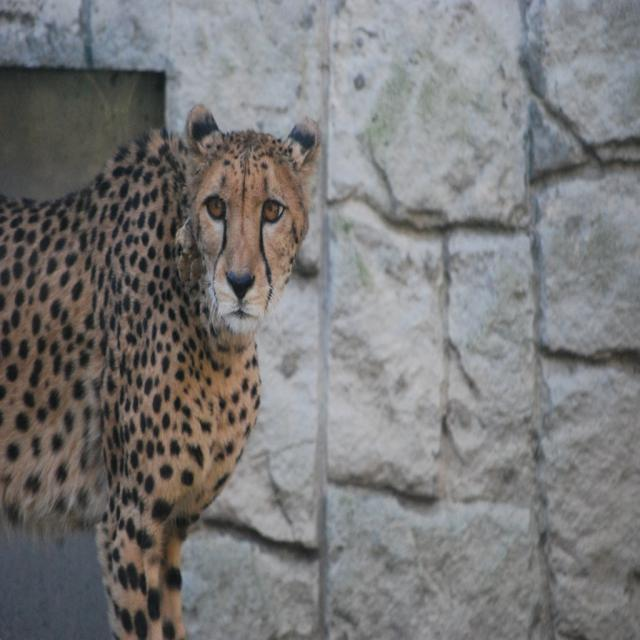Cheetah: (0, 106, 321, 640)
